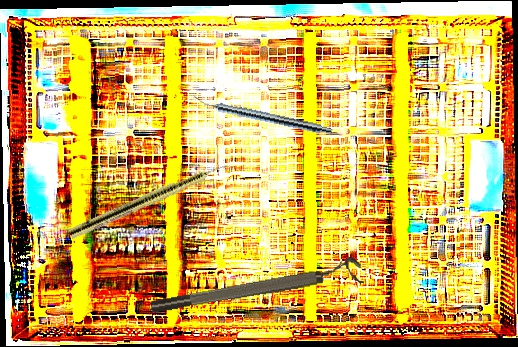Fixation Ring: (148, 255, 364, 317)
Handpiece: (67, 156, 236, 242), (192, 94, 334, 137)
